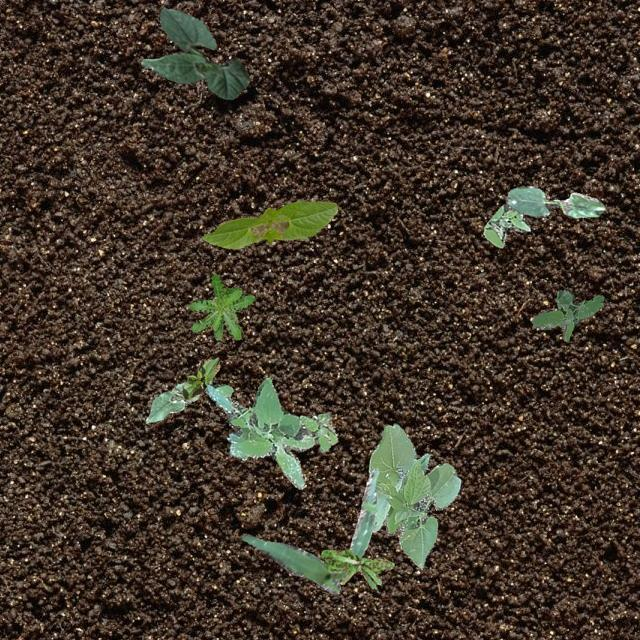crop: (240, 466, 378, 594), (368, 422, 460, 568), (140, 5, 248, 99), (200, 200, 336, 248), (504, 184, 604, 217), (144, 381, 198, 424), (180, 354, 220, 398)
weed: (205, 377, 336, 488), (188, 272, 254, 338), (530, 288, 602, 340), (320, 548, 392, 588), (482, 202, 528, 246)
